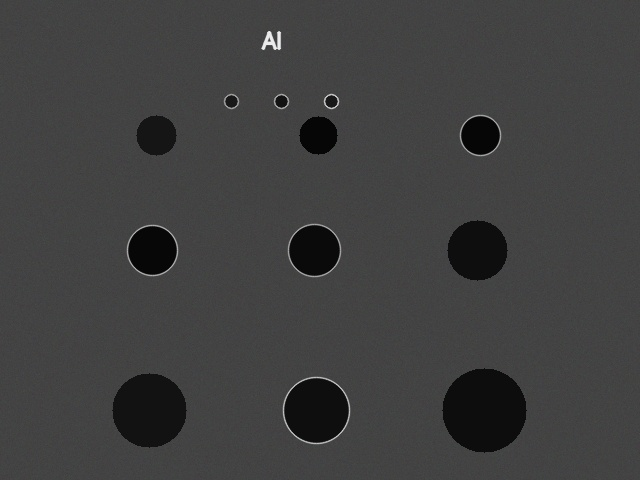hole: (442, 368, 526, 452), (112, 373, 186, 447), (283, 377, 349, 443), (447, 220, 507, 280), (288, 224, 340, 276), (127, 225, 177, 275), (136, 115, 176, 155), (460, 115, 500, 155), (299, 116, 337, 154), (224, 94, 238, 108), (274, 94, 288, 108), (324, 94, 338, 108)
